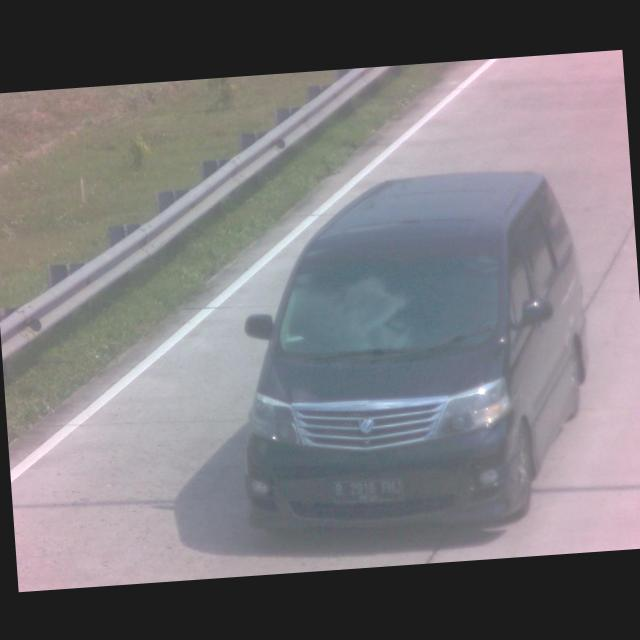plate: (331, 474, 409, 508)
